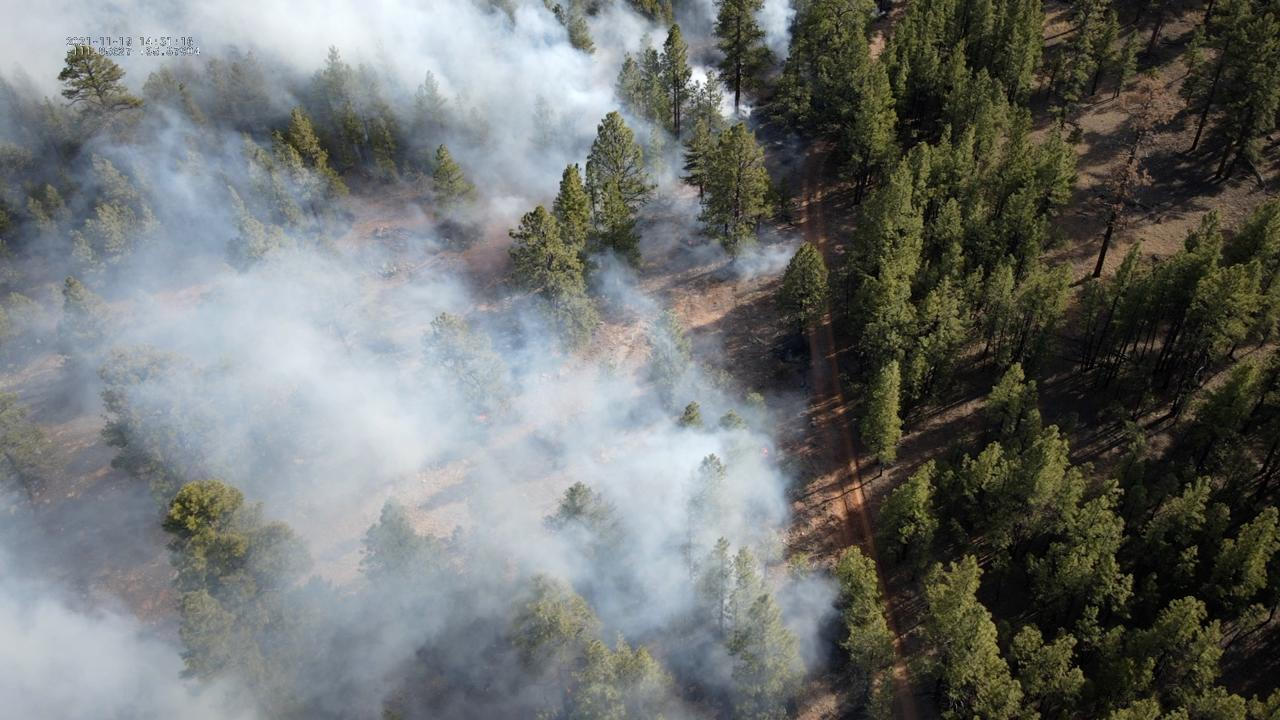fire: (762, 446, 771, 456)
smoke: (0, 0, 848, 720)
